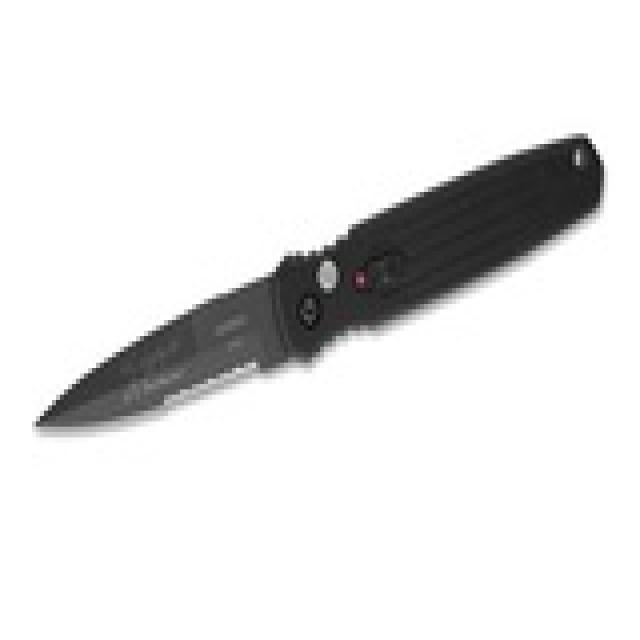Knife: (22, 109, 615, 457)
